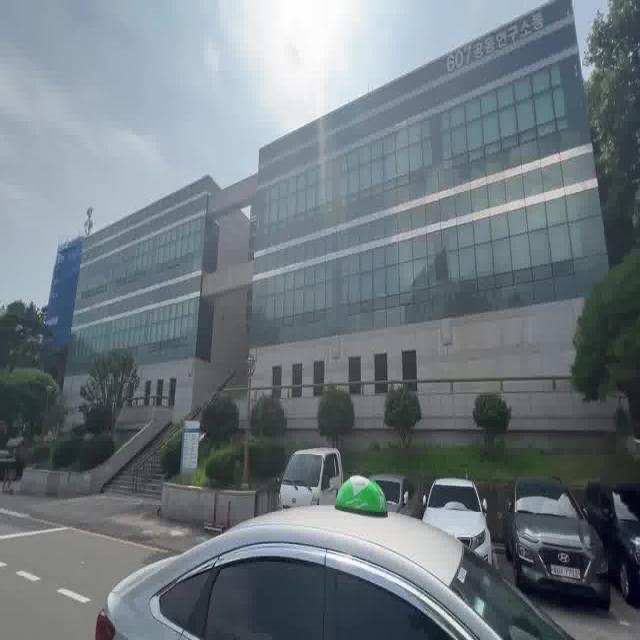building: (91, 14, 574, 437)
